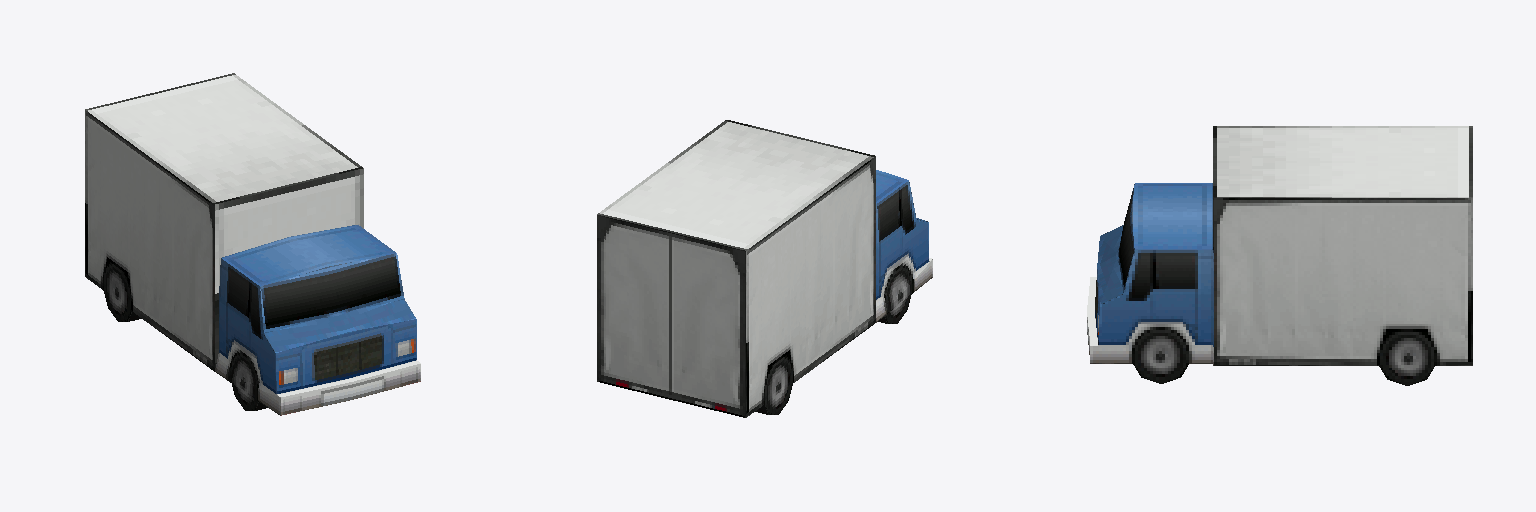
3 renders of one model, left to right at view 1: azimuth 30°, elevation 25°; view 2: azimuth 150°, elevation 25°; view 3: azimuth 270°, elevation 25°, orthographic.
Parts seen in each view (by area): view 1: g0; view 2: g0; view 3: g0.
Boxes of the visible parts, <box> form: g0: <box>85,73,420,415</box>; g0: <box>597,120,932,417</box>; g0: <box>1087,126,1472,385</box>.
Size of the model in its own units: 2.03 by 2.44 by 4.54.
1 materials, 1 textured.